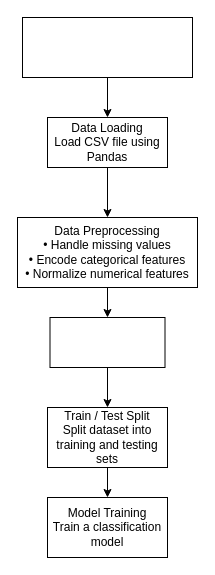
Some shapes in this 215 by 575 pixel diagram are drawn without their labels. The centre of each missing label's shape, as x and y in pixels:
Dataset Selection Daily Water Intake Dataset (Kaggle): the point at 107,47
Feature Selection Select relevant input features: the point at 107,342
